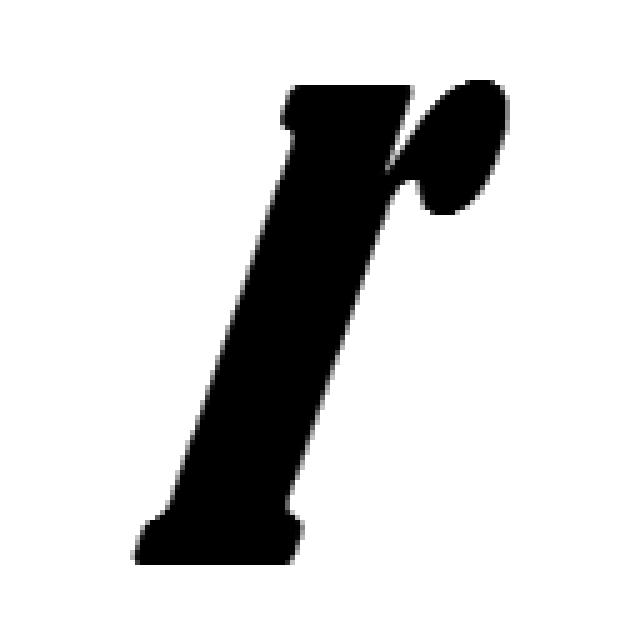R: (125, 65, 515, 570)
